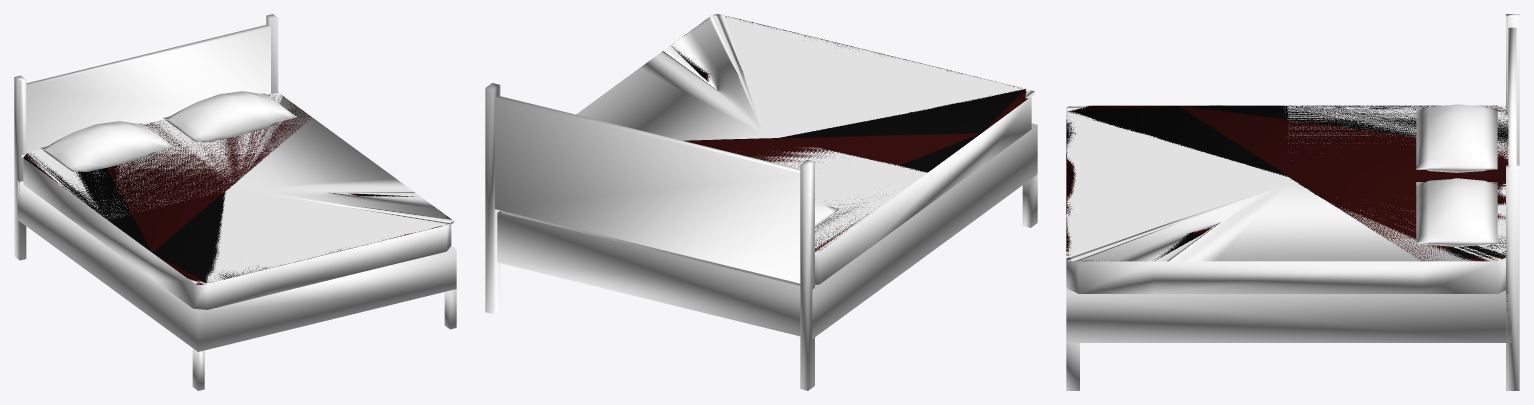
3 renders of one model, left to right at view 1: azimuth 30°, elevation 25°; view 2: azimuth 150°, elevation 25°; view 3: azimuth 270°, elevation 25°, orthographic. The views are drawn at different scales.
Bounding box in the file's own units: 0.7729 × 0.5118 × 0.95.
